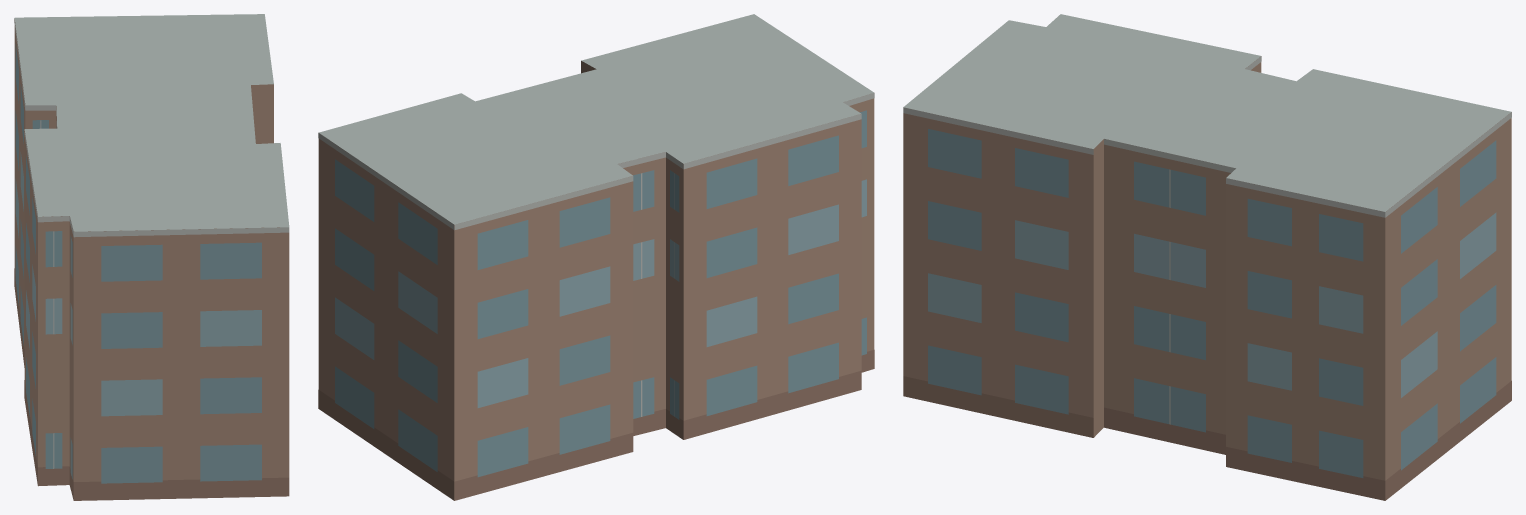
The model's file is survey-upis-32560315.glb.
The picture shows the model from 3 angles, left to right: view 1: azimuth 30°, elevation 25°; view 2: azimuth 150°, elevation 25°; view 3: azimuth 270°, elevation 25°; orthographic projection. The views are drawn at different scales.
Parts seen in each view (by area): view 1: survey-upis-32560315.tmp; view 2: survey-upis-32560315.tmp; view 3: survey-upis-32560315.tmp.
Boxes of the visible parts, bbox=[...] form: survey-upis-32560315.tmp: bbox=[14, 14, 289, 500]; survey-upis-32560315.tmp: bbox=[318, 14, 874, 500]; survey-upis-32560315.tmp: bbox=[903, 14, 1511, 500].
Bounding box in the file's own units: 17.79 × 12.1 × 23.11.
